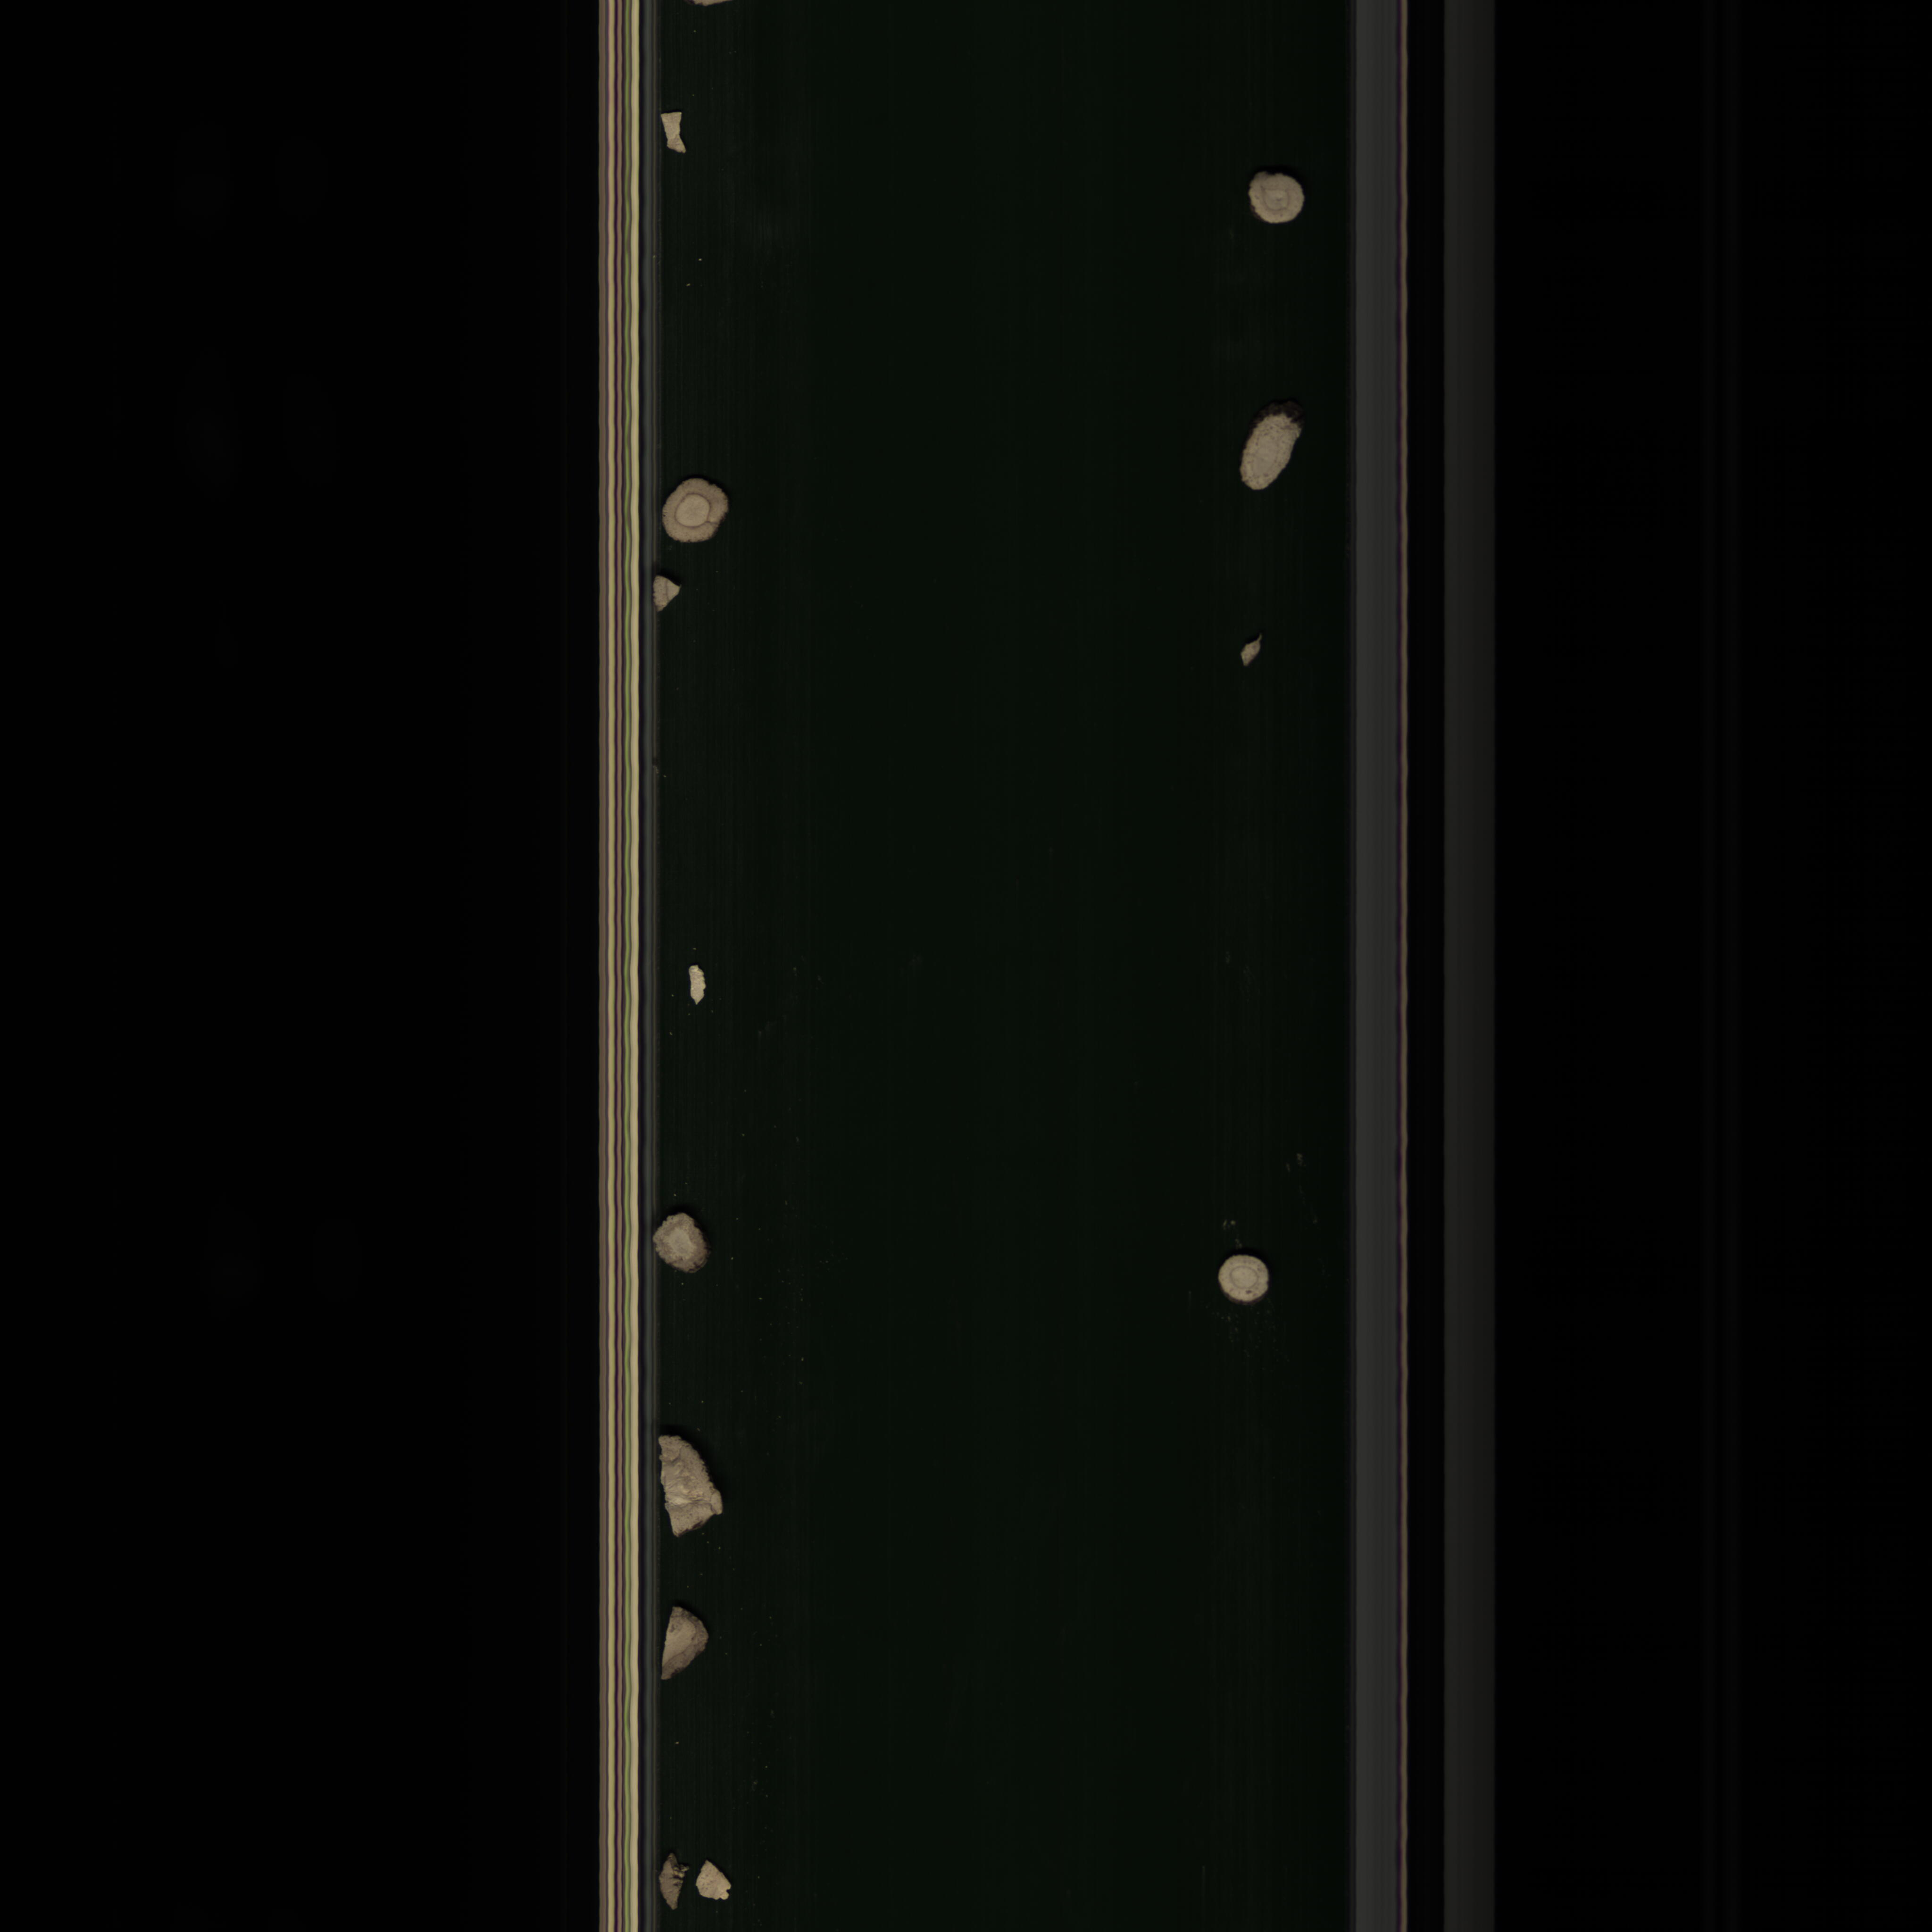bark: (656, 1851, 690, 1918)
debris: (653, 1421, 731, 1552), (656, 1599, 713, 1690), (692, 1852, 740, 1905), (655, 101, 694, 165), (648, 570, 690, 619), (678, 955, 709, 1014), (1235, 632, 1269, 665)
distortion: (1235, 396, 1306, 513)
moldy: (649, 1207, 709, 1283)
